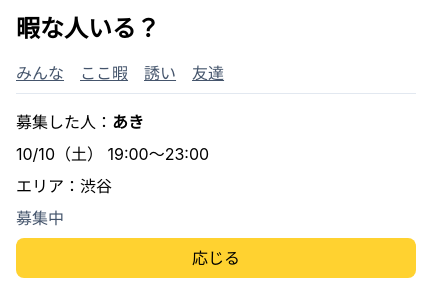
Test: 募集の詳細 › 宛先の人には人数を出さず、「応じる」で応じたことだけを出す
Expected: the text "募集中" is shown, [16,208,64,228]
Expected: the text "あき" is shown, [112,112,144,132]
Click the button "応じる" at (216, 258), box [16,238,416,278]
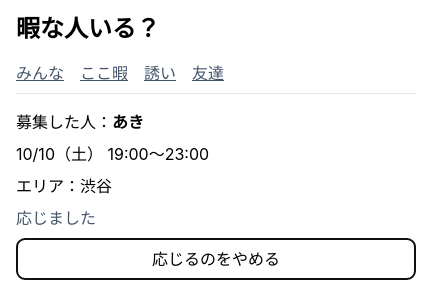
Expected: the button "応じるのをやめる" is shown, [16,238,416,280]
Expected: the text "応じました" is shown, [16,208,96,228]
